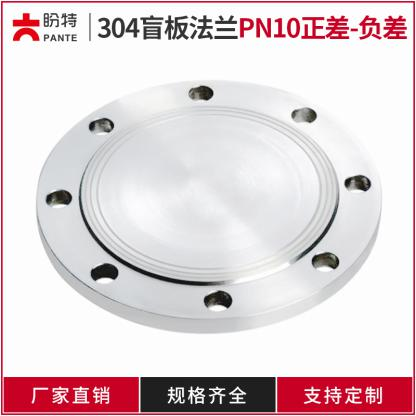FOD: (29, 70, 389, 335)
